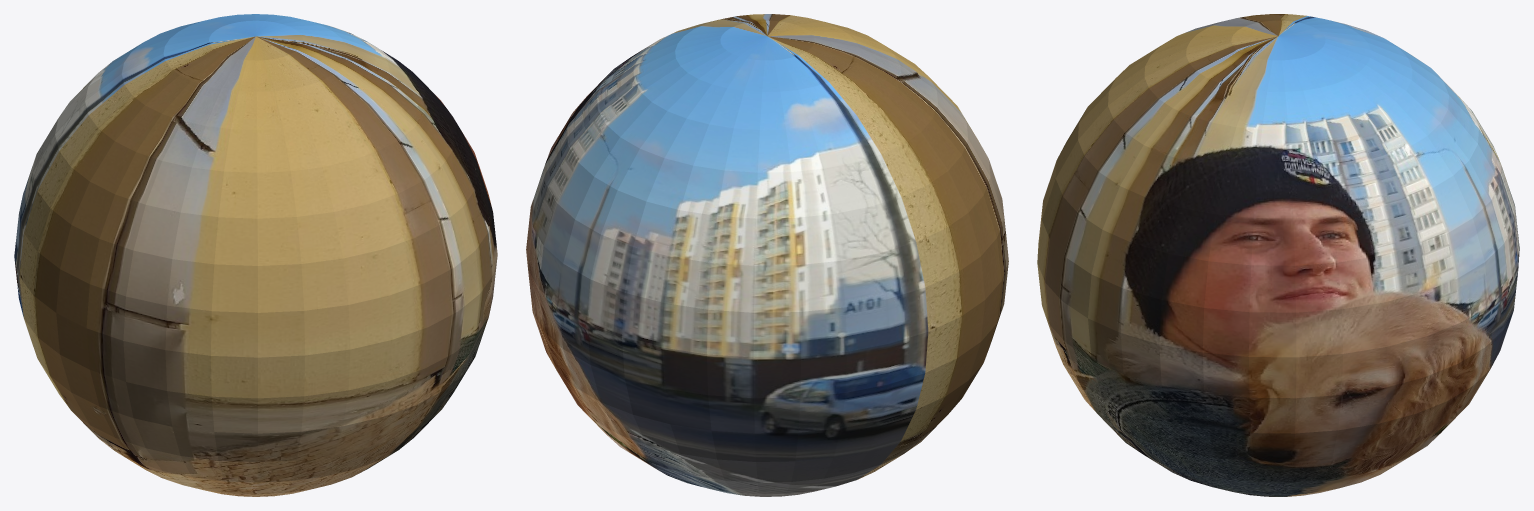
The model's file is me.gltf.glb.
3 renders of one model, left to right at view 1: azimuth 30°, elevation 25°; view 2: azimuth 150°, elevation 25°; view 3: azimuth 270°, elevation 25°, orthographic.
Parts seen in each view (by area): view 1: Сфера; view 2: Сфера; view 3: Сфера.
Boxes of the visible parts, x1,y1,x2,y2 form: Сфера: (14,14,497,496); Сфера: (526,14,1008,496); Сфера: (1037,14,1519,496).
Size of the model in its own units: 1.99 by 2 by 1.99.
1 material, 1 textured.
